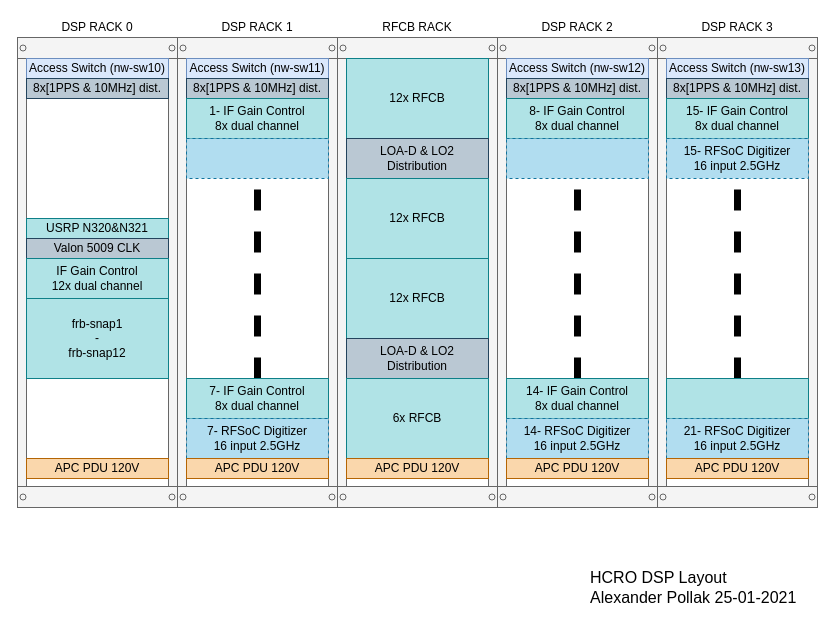
Some shapes in this 835 by 624 pixel diagram are drawn without their labels. The box of each missing label's shape, as (x1, y1, x2, y2) in pixels:
1- RFSoC Digitizer 16 input 2.5GHz: (186, 138, 328, 178)
21- IF Gain Control 8x dual channel: (666, 378, 808, 418)
8- RFSoC Digitizer 16 input 2.5GHz: (506, 138, 648, 178)
